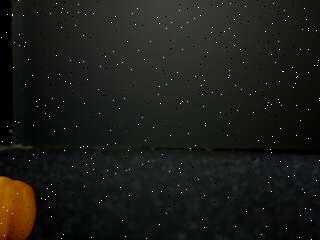Capsicum: (0, 174, 38, 240)
